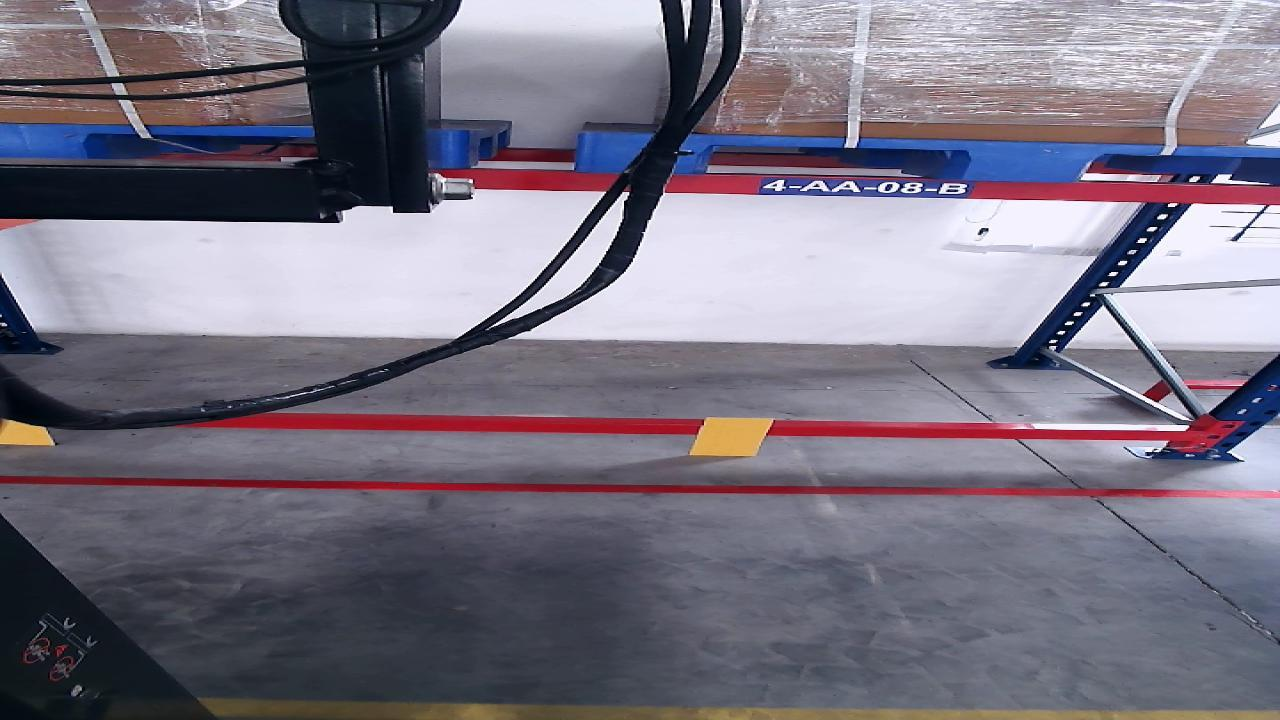h_rack: (470, 170, 1279, 203), (176, 419, 1192, 441)
orange_strip: (689, 418, 771, 457)
red_line: (0, 477, 1278, 497)
small_pallet: (578, 132, 1279, 180), (0, 123, 460, 170)
yellow_line: (207, 696, 1280, 720)
